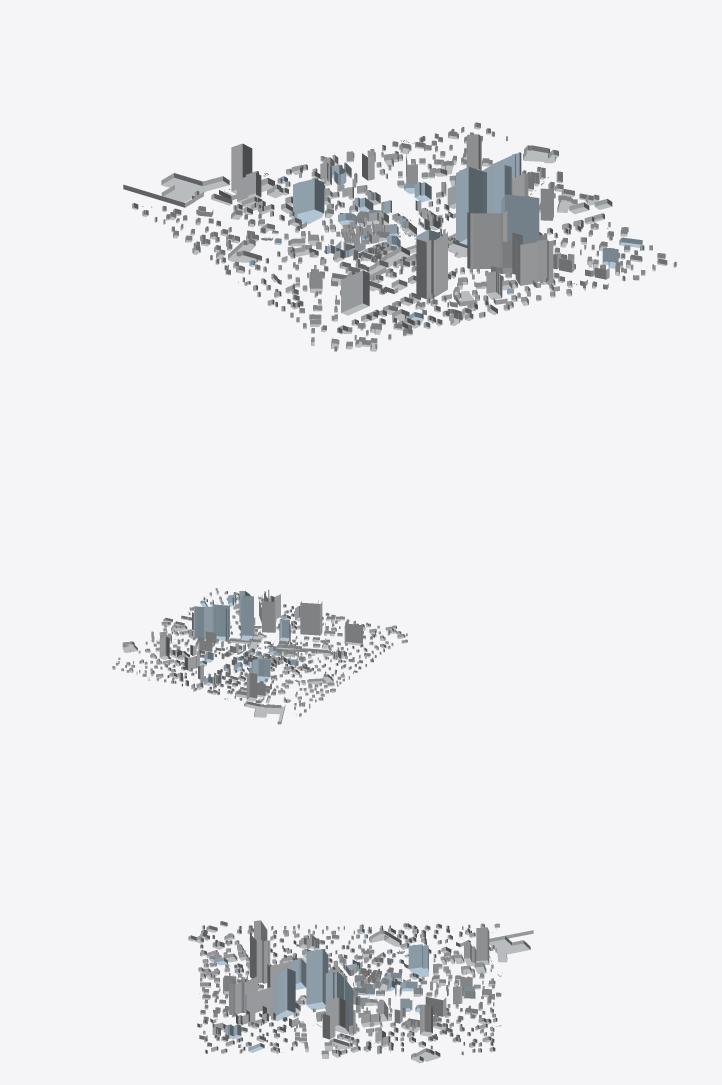
Rendered from scene-shibuya-scramble-crossing.glb.
3 views of the same model, one above another, from view 1: azimuth 30°, elevation 25°; view 2: azimuth 150°, elevation 25°; view 3: azimuth 270°, elevation 25° (orthographic). The views are drawn at different scales.
Visible parts, largest first — view 1: building_shells_mixed, building_shells_glass; view 2: building_shells_mixed, building_shells_glass; view 3: building_shells_mixed, building_shells_glass, building_shells_metal.
Part boxes in pixels (left/top/right/bottom): building_shells_mixed: left=123, top=122, right=676, bottom=351; building_shells_glass: left=249, top=152, right=642, bottom=323; building_shells_mixed: left=112, top=588, right=407, bottom=724; building_shells_glass: left=194, top=591, right=333, bottom=694; building_shells_mixed: left=188, top=920, right=533, bottom=1063; building_shells_glass: left=214, top=934, right=484, bottom=1052; building_shells_metal: left=346, top=964, right=475, bottom=998.
Size of the model in its own units: 2717 by 230 by 2714.
